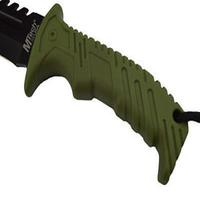knife: (1, 1, 188, 161)
